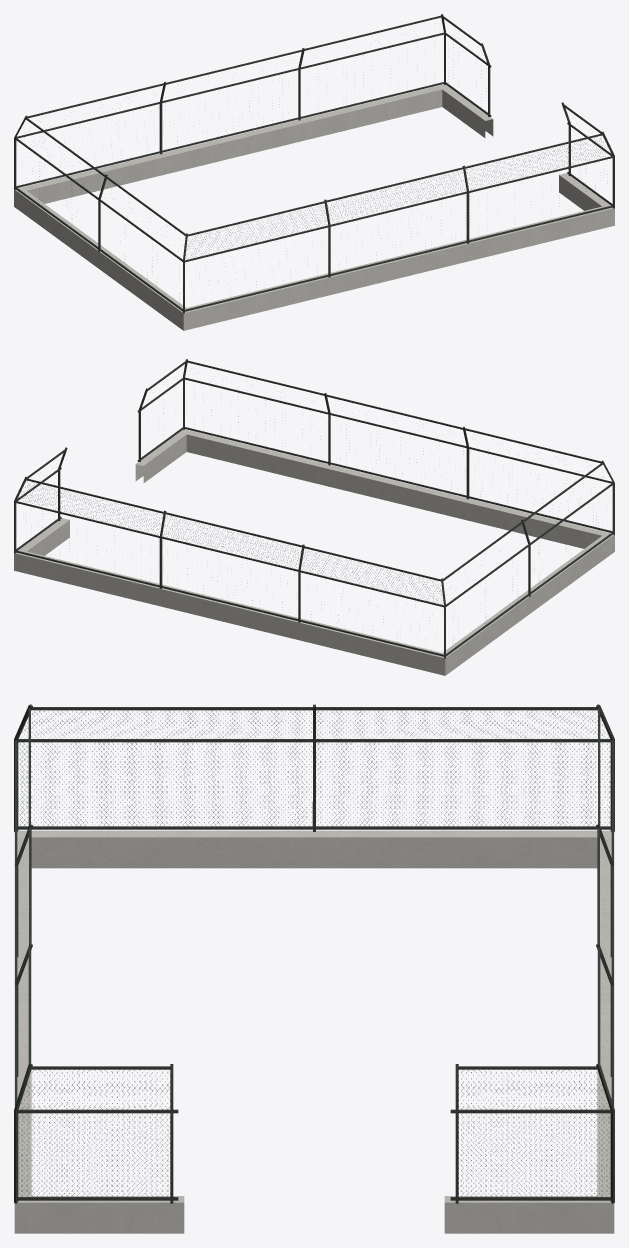
Rendered from fence02.dae.
The picture shows the model from 3 angles, top to bottom: view 1: azimuth 30°, elevation 25°; view 2: azimuth 150°, elevation 25°; view 3: azimuth 270°, elevation 25°; orthographic projection. The views are drawn at different scales.
Visible parts, largest first — view 1: fence02; view 2: fence02; view 3: fence02.
Boxes of the visible parts, x1,y1,x2,y2 form: fence02: (14,14,614,330); fence02: (14,359,614,675); fence02: (14,704,614,1233).
Size of the model in its own units: 12.48 by 2.55 by 8.5.
